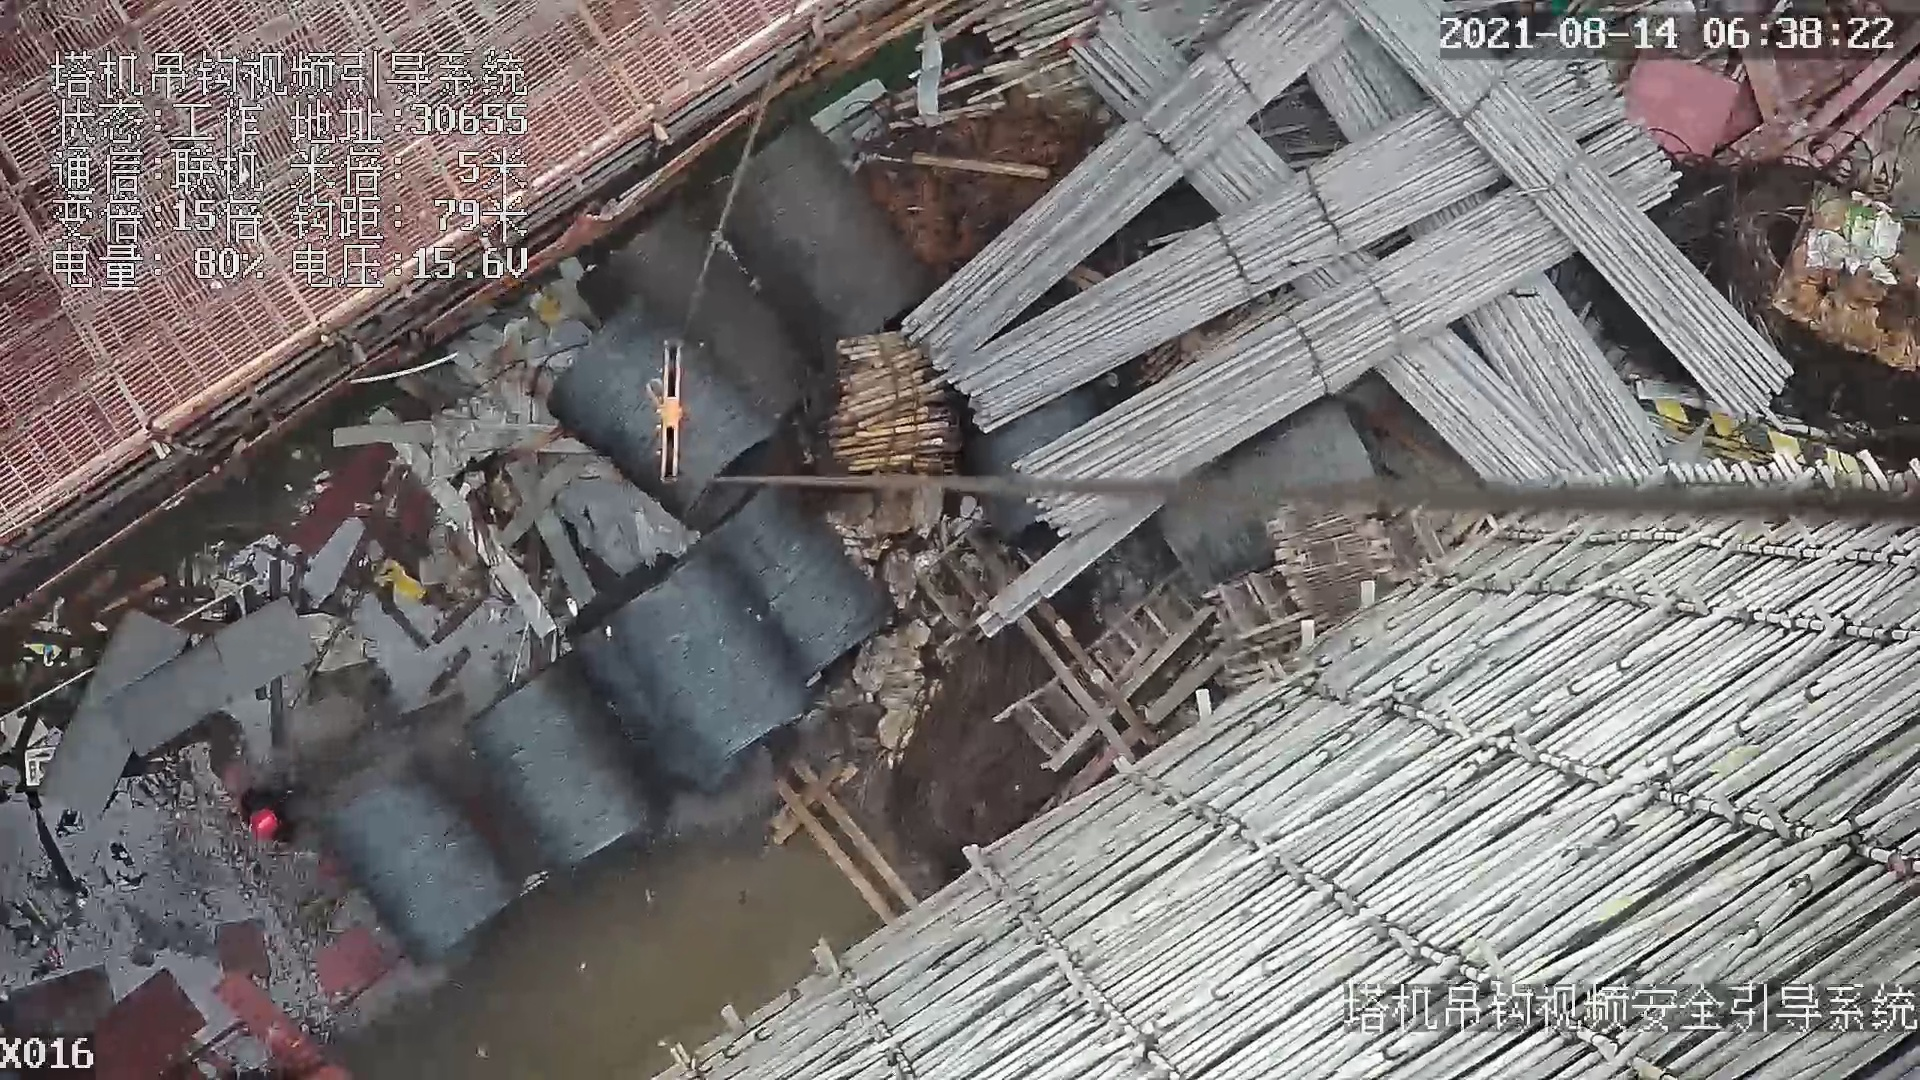helmet: (240, 806, 282, 842)
hook: (642, 333, 688, 487)
person: (237, 789, 305, 854)
